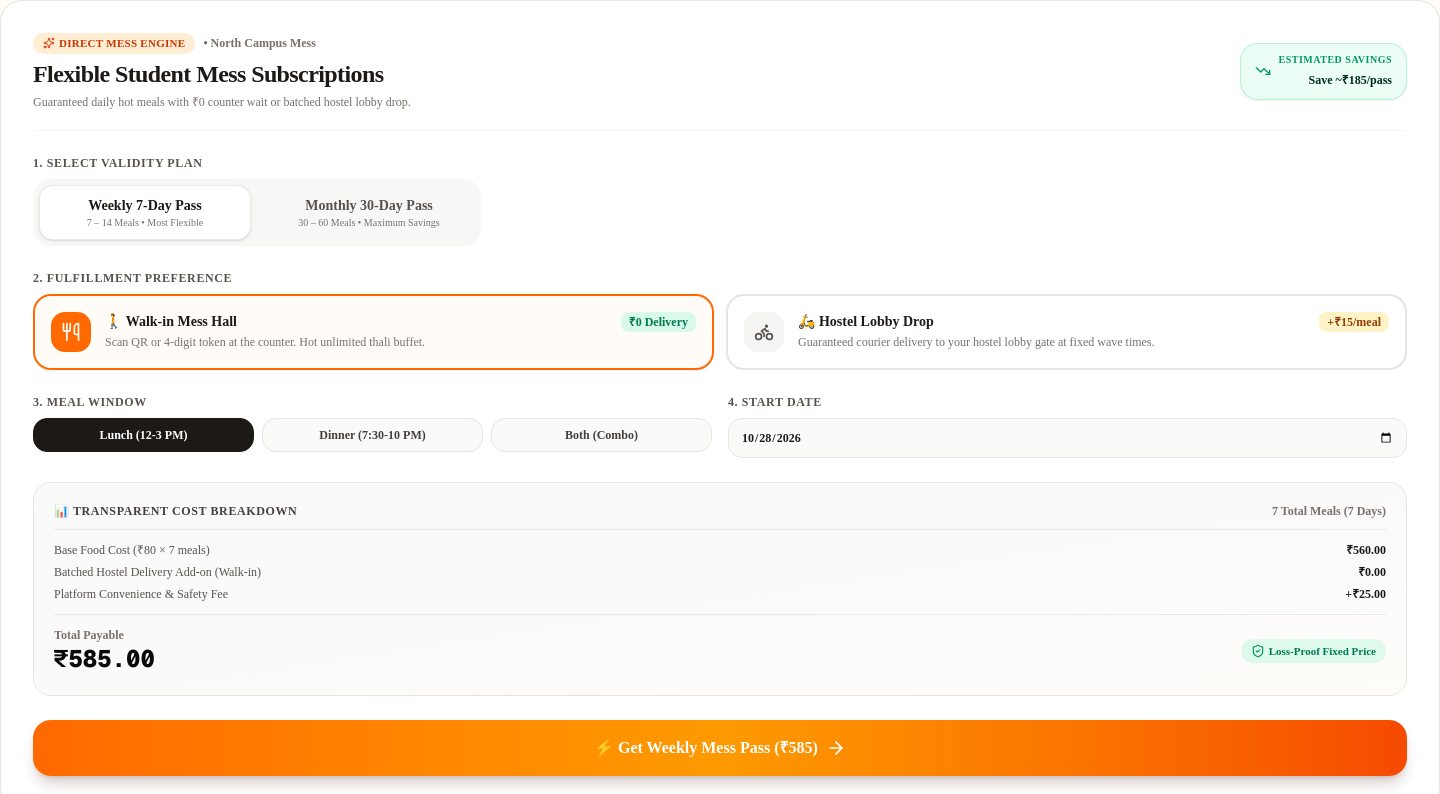
Scenario: WeeklyMessSelector Component › updates price and shows hostel dropdown when Hostel Lobby Drop is selected
Click the button with test id "pref-hostel-delivery".
click(764, 332)  # box [726, 294, 1407, 370]
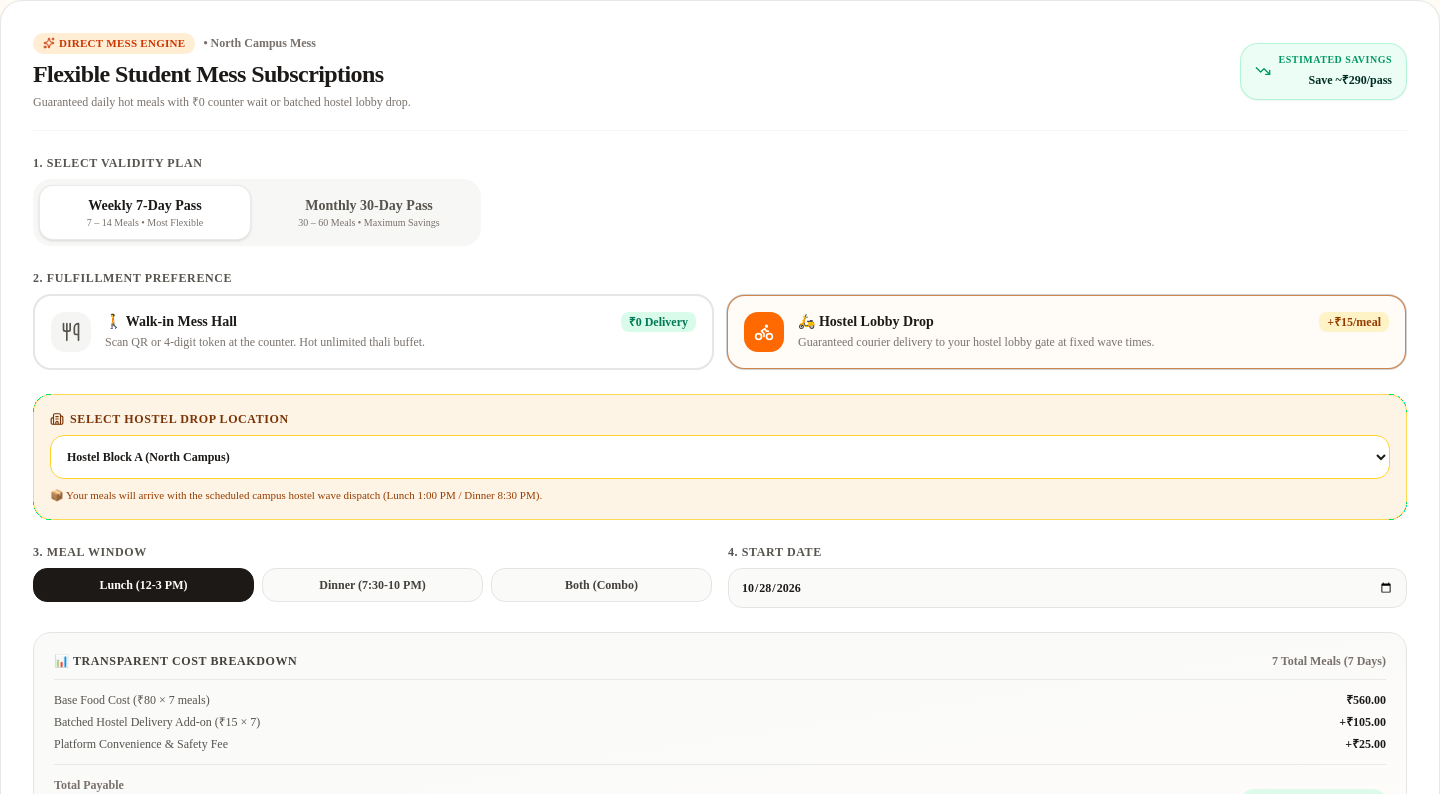
Now the text "Select Hostel Drop Location" is shown, box [70, 411, 289, 427]
Now the dropdown showing "Hostel Block A (North Campus)" is shown, box [50, 435, 1390, 479]
